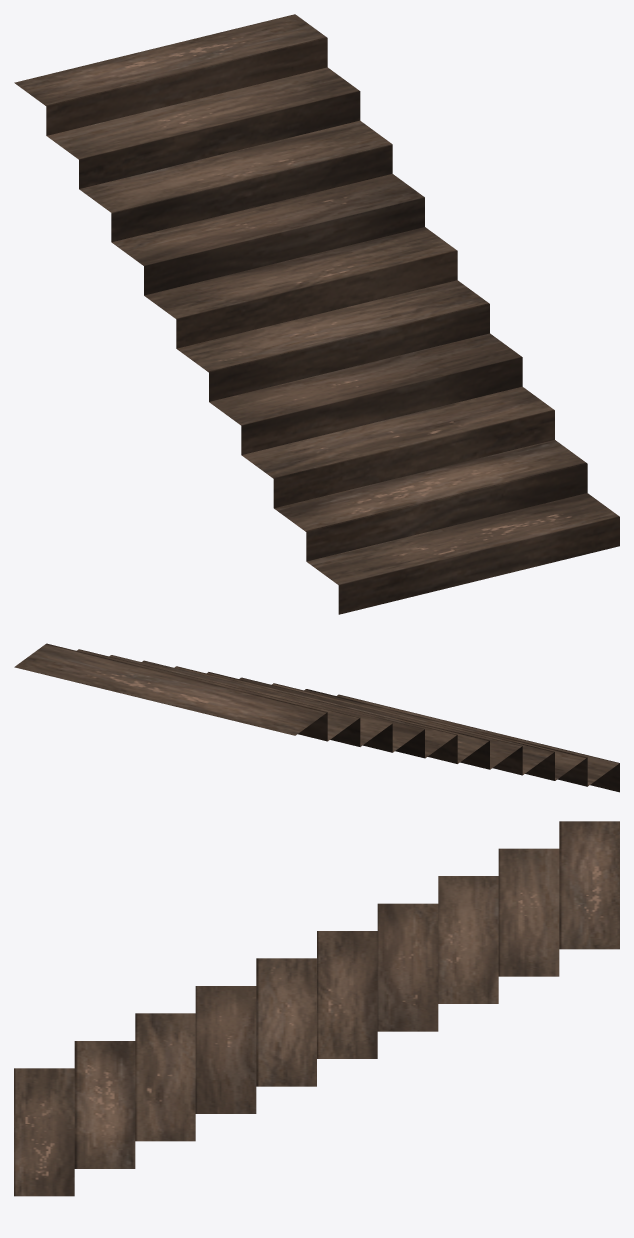
File: Stair.Narrow_Half.fbx
3 renders of one model, top to bottom at view 1: azimuth 30°, elevation 25°; view 2: azimuth 150°, elevation 25°; view 3: azimuth 270°, elevation 25°, orthographic. The views are drawn at different scales.
Parts seen in each view (by area): view 1: Stairs.Narrow_Half; view 2: Stairs.Narrow_Half; view 3: Stairs.Narrow_Half.
Part boxes in pixels (x1,y1,x2,y2): Stairs.Narrow_Half: [14, 14, 619, 614]; Stairs.Narrow_Half: [14, 643, 619, 792]; Stairs.Narrow_Half: [14, 821, 619, 1196].
Bounding box in the file's own units: 150 × 150 × 300.
